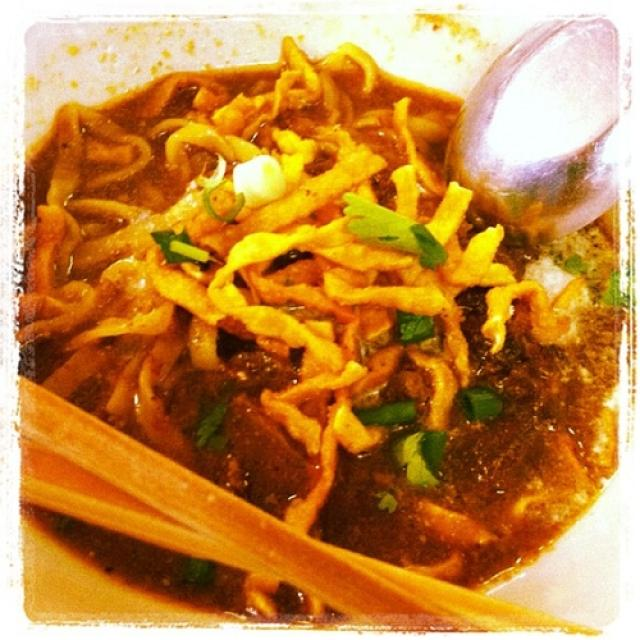面条主食: (26, 32, 617, 599)
